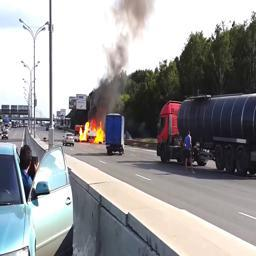fire: (79, 119, 106, 143)
